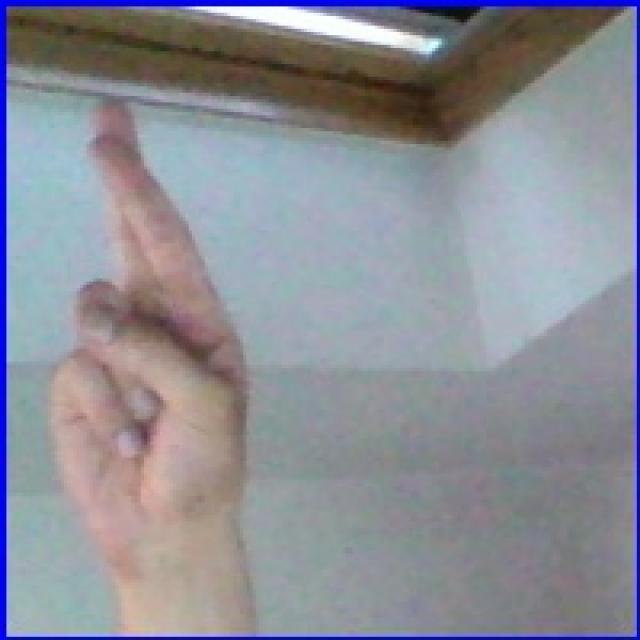Letra-R: (22, 90, 283, 584)
